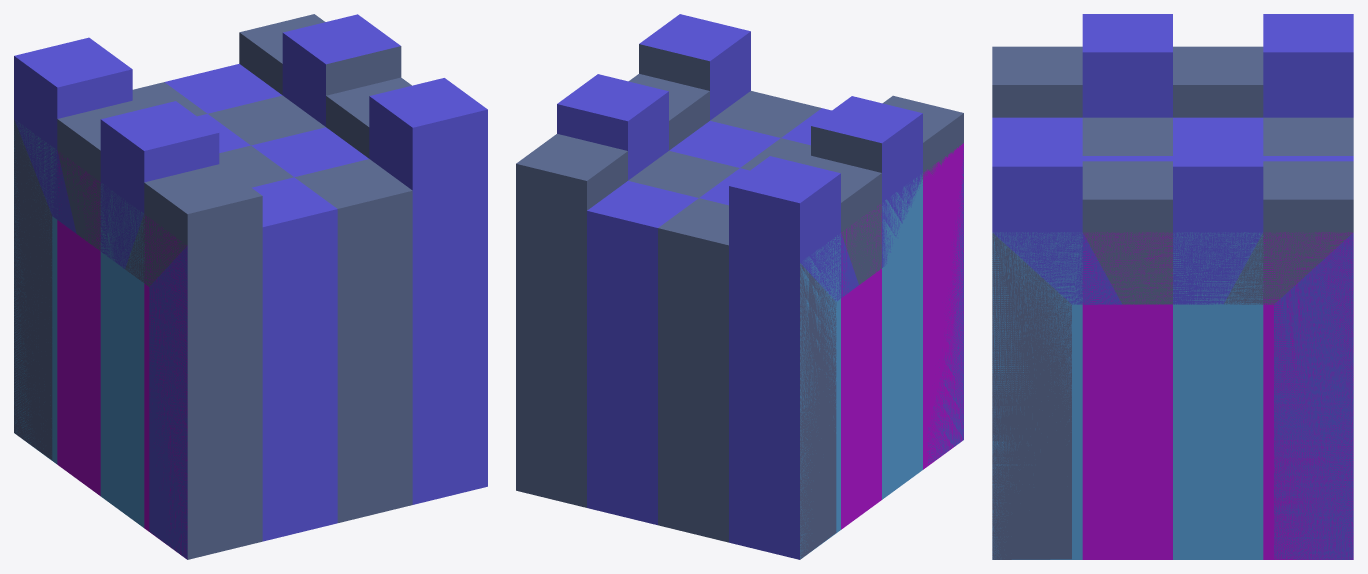
The model's file is wall.fbx.
3 views of the same model, side by side, from view 1: azimuth 30°, elevation 25°; view 2: azimuth 150°, elevation 25°; view 3: azimuth 270°, elevation 25° (orthographic). The views are drawn at different scales.
Parts seen in each view (by area): view 1: Cube, Wall; view 2: Cube, Wall; view 3: Cube, Wall.
Boxes of the visible parts, <box> form: Cube: <box>14,14,487,559</box>; Wall: <box>14,120,187,558</box>; Cube: <box>516,14,963,559</box>; Wall: <box>800,143,963,558</box>; Cube: <box>992,14,1353,559</box>; Wall: <box>992,232,1353,559</box>.
Bounding box in the file's own units: 200 × 240 × 200.
